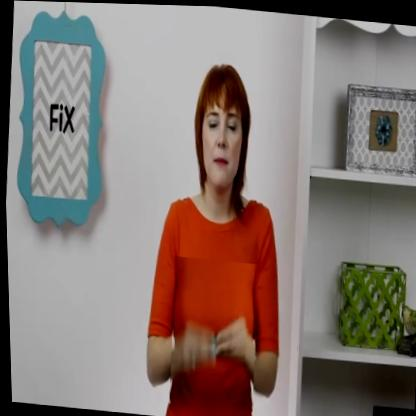Fix: (163, 255, 260, 410)
